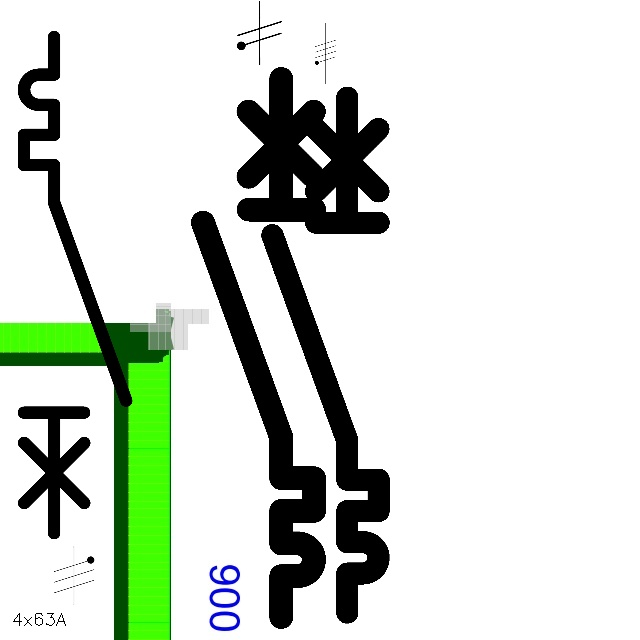interruptor_termomagnetico: (189, 65, 328, 631), (259, 84, 392, 626), (11, 24, 139, 546)
